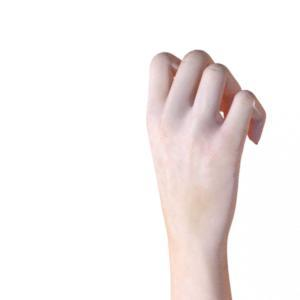rock: (147, 52, 265, 300)
